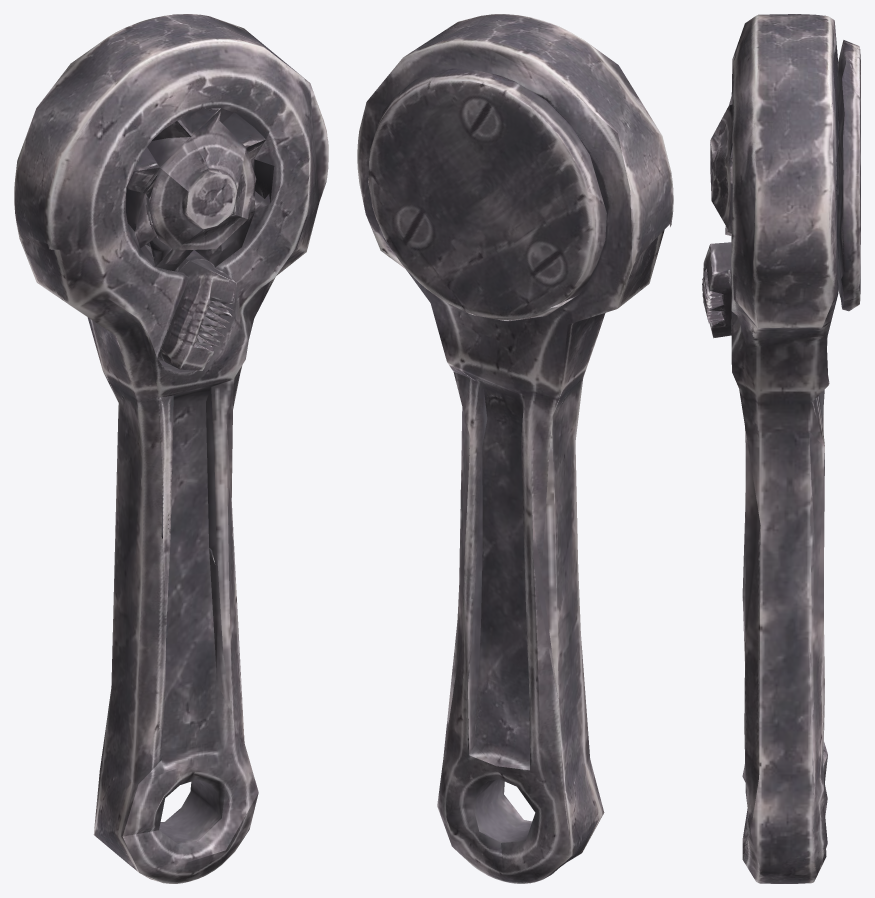
Rendered from ratchet.glb.
3 views of the same model, side by side, from view 1: azimuth 30°, elevation 25°; view 2: azimuth 150°, elevation 25°; view 3: azimuth 270°, elevation 25° (orthographic).
Visible parts, largest first — view 1: Mesh_0; view 2: Mesh_0; view 3: Mesh_0.
Part boxes in pixels (<box>): Mesh_0: <box>14,14,328,883</box>; Mesh_0: <box>357,14,673,883</box>; Mesh_0: <box>702,14,860,883</box>.
Bounding box in the file's own units: 0.6673 × 1.9 × 0.3238.
1 material, 1 textured.
